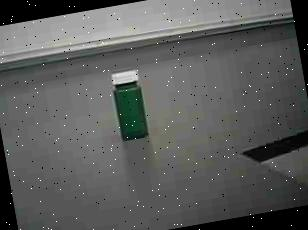Bottle C: (96, 60, 162, 152)
